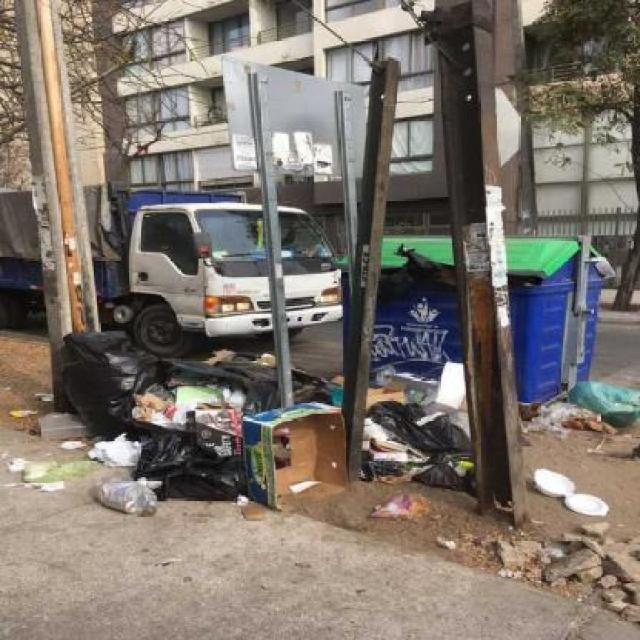garbage: (20, 282, 616, 570), (376, 236, 455, 327)
